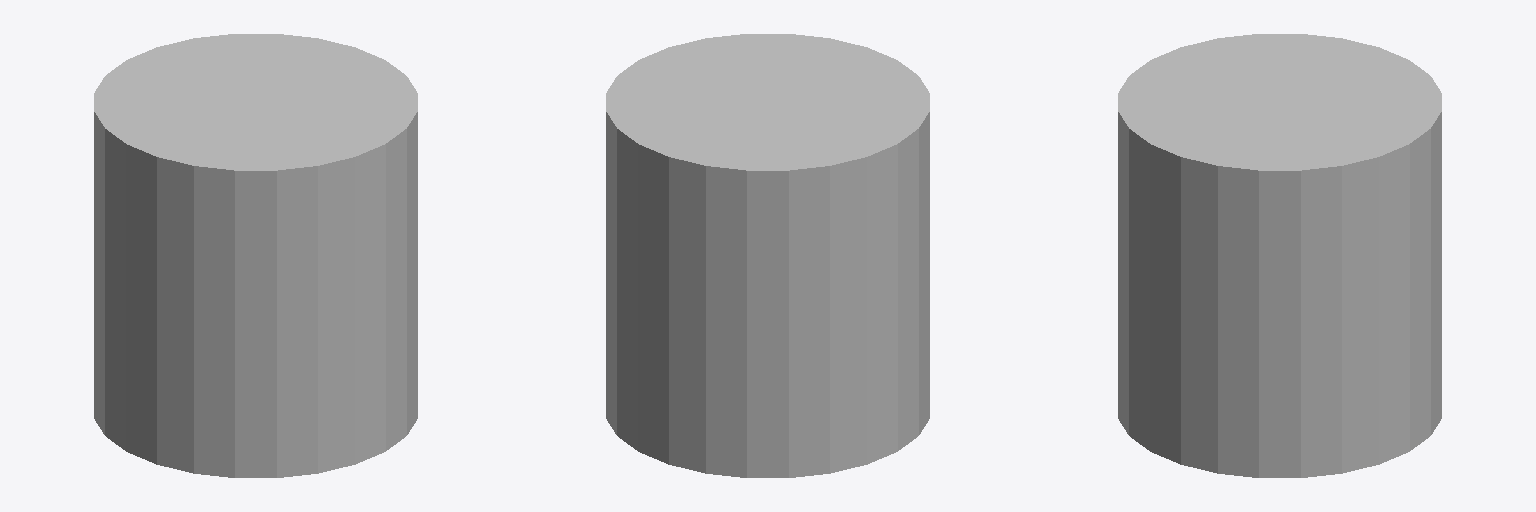
File: YF-20Collider.obj
3 views of the same model, side by side, from view 1: azimuth 30°, elevation 25°; view 2: azimuth 150°, elevation 25°; view 3: azimuth 270°, elevation 25° (orthographic).
Parts seen in each view (by area): view 1: YF-20Collider; view 2: YF-20Collider; view 3: YF-20Collider.
Boxes of the visible parts, x1=… form: YF-20Collider: x1=94, y1=34, x2=417, y2=477; YF-20Collider: x1=606, y1=34, x2=929, y2=477; YF-20Collider: x1=1118, y1=34, x2=1441, y2=477.
Bounding box in the file's own units: 0.6197 × 0.65 × 0.6197.